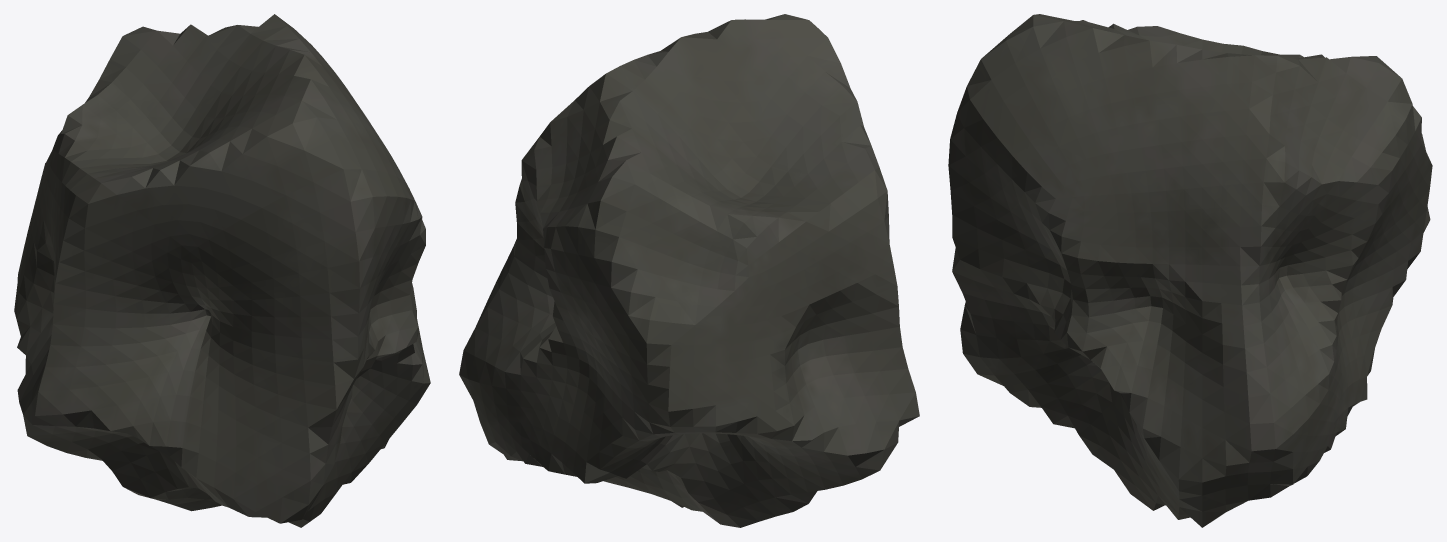
The model's file is rocks-white_1.fbx.
The picture shows the model from 3 angles, left to right: view 1: azimuth 30°, elevation 25°; view 2: azimuth 150°, elevation 25°; view 3: azimuth 270°, elevation 25°; orthographic projection.
Visible parts, largest first — view 1: Cube.033; view 2: Cube.033; view 3: Cube.033.
Boxes of the visible parts, x1,y1,x2,y2 form: Cube.033: (14,14,430,527); Cube.033: (459,14,919,527); Cube.033: (948,14,1432,527).
Size of the model in its own units: 177 by 192 by 178.
